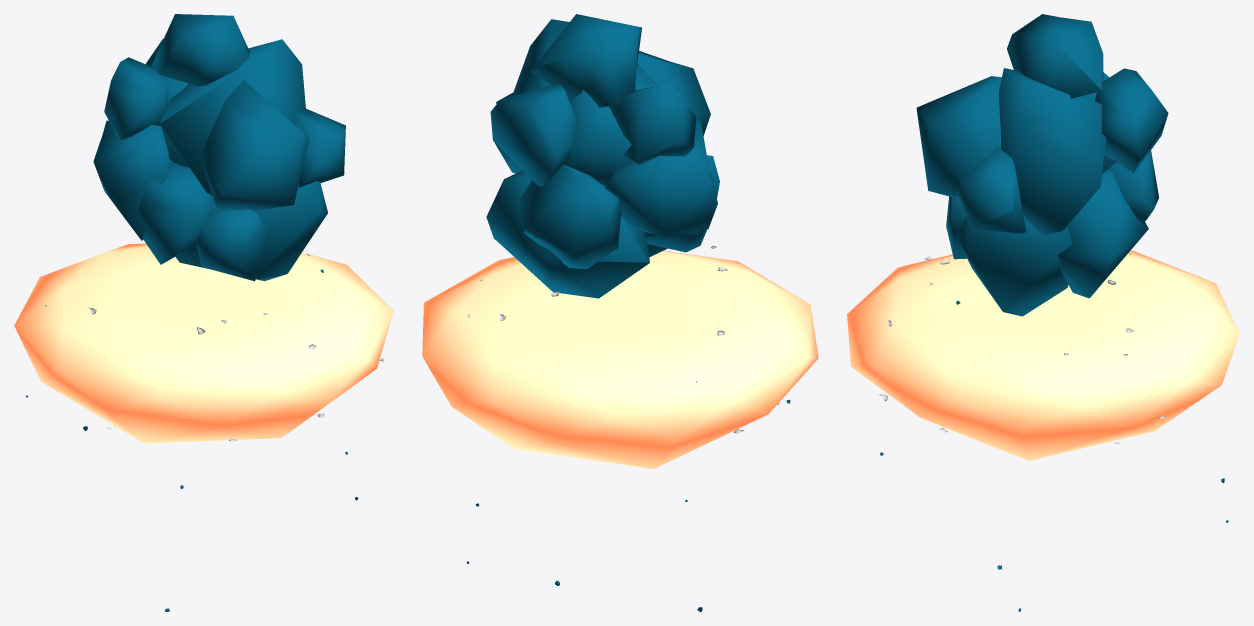
File: eff_meshparticles_residueore01_pose0.fbx
The picture shows the model from 3 angles, left to right: view 1: azimuth 30°, elevation 25°; view 2: azimuth 150°, elevation 25°; view 3: azimuth 270°, elevation 25°; orthographic projection. The views are drawn at different scales.
Parts seen in each view (by area): view 1: core_lp.002, minerals_lp.004; view 2: core_lp.002, minerals_lp.004; view 3: core_lp.002, minerals_lp.004.
Boxes of the visible parts, <box> form: core_lp.002: <box>14,243,393,443</box>; minerals_lp.004: <box>93,14,345,281</box>; core_lp.002: <box>422,250,818,468</box>; minerals_lp.004: <box>486,14,719,298</box>; core_lp.002: <box>847,250,1239,460</box>; minerals_lp.004: <box>916,14,1168,316</box>.
Bounding box in the file's own units: 1.73 × 2.82 × 1.74.
